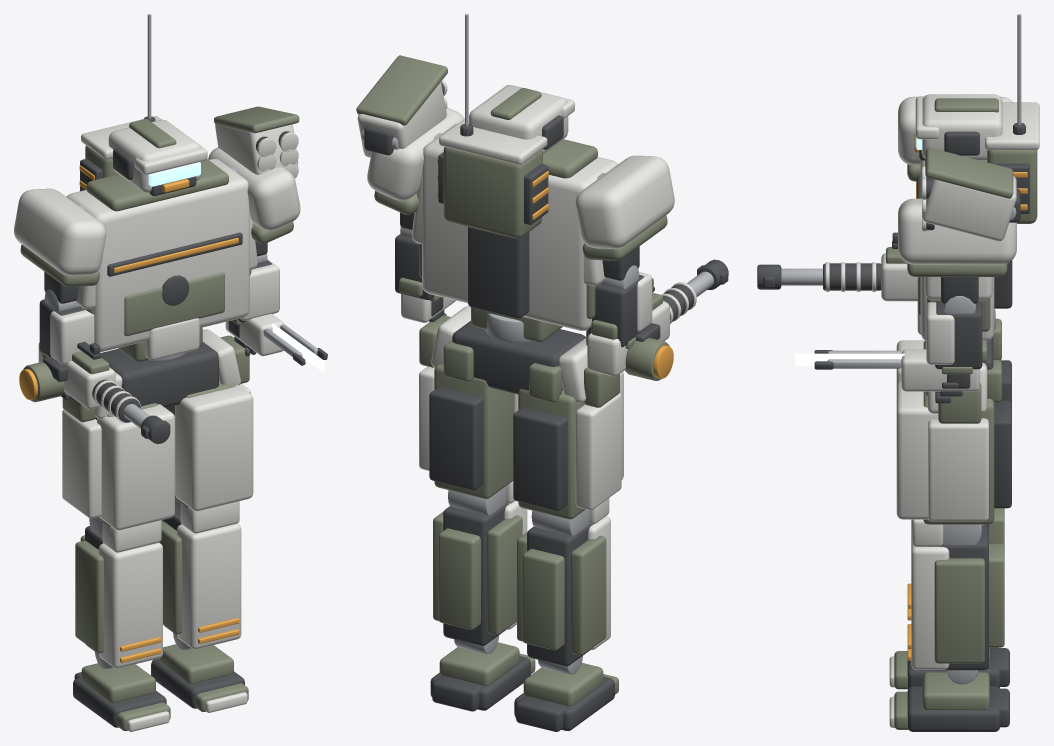
The model's file is ashframe.glb.
3 views of the same model, side by side, from view 1: azimuth 30°, elevation 25°; view 2: azimuth 150°, elevation 25°; view 3: azimuth 270°, elevation 25° (orthographic). The views are drawn at different scales.
Visible parts, largest first — view 1: ASH_torso_white, ASH_leg_r_white, ASH_leg_l_white, ASH_torso_olive, ASH_arm_r_white, ASH_torso_dark, ASH_leg_r_olive, ASH_leg_l_olive, ASH_arm_l_white, ASH_head_white, ASH_gun_r_dark, ASH_leg_r_dark (+17 smaller); view 2: ASH_torso_white, ASH_leg_l_olive, ASH_torso_olive, ASH_leg_r_olive, ASH_torso_dark, ASH_leg_r_dark, ASH_leg_l_dark, ASH_arm_r_white, ASH_leg_r_white, ASH_arm_l_white, ASH_head_white, ASH_arm_r_dark (+12 smaller); view 3: ASH_leg_l_white, ASH_leg_l_olive, ASH_torso_white, ASH_leg_l_dark, ASH_arm_l_white, ASH_torso_olive, ASH_arm_l_dark, ASH_head_white, ASH_torso_dark, ASH_gun_r_dark, ASH_gun_r_white, ASH_blade_l_white (+13 smaller).
Part boxes in pixels (x1,y1,x2,y2): ASH_torso_white: (66, 116, 298, 419); ASH_leg_r_white: (62, 404, 174, 731); ASH_leg_l_white: (175, 383, 253, 712); ASH_torso_olive: (85, 106, 299, 362); ASH_arm_r_white: (14, 188, 106, 364); ASH_torso_dark: (80, 116, 289, 407); ASH_leg_r_olive: (62, 397, 170, 730); ASH_leg_l_olive: (159, 335, 249, 711); ASH_arm_l_white: (208, 147, 300, 320); ASH_head_white: (108, 119, 207, 192); ASH_gun_r_dark: (43, 341, 170, 443); ASH_leg_r_dark: (73, 526, 166, 727); ASH_torso_white: (357, 79, 618, 403); ASH_leg_l_olive: (419, 315, 535, 685); ASH_torso_olive: (356, 55, 597, 402); ASH_leg_r_olive: (517, 367, 619, 706); ASH_torso_dark: (364, 82, 585, 394); ASH_leg_r_dark: (513, 407, 614, 731); ASH_leg_l_dark: (429, 387, 530, 711); ASH_arm_r_white: (575, 155, 674, 331); ASH_leg_r_white: (575, 371, 623, 649); ASH_arm_l_white: (367, 107, 464, 200); ASH_head_white: (469, 85, 574, 153); ASH_arm_r_dark: (588, 246, 645, 347); ASH_leg_l_white: (889, 381, 988, 727); ASH_leg_l_olive: (894, 383, 1004, 729); ASH_torso_white: (917, 102, 1039, 413); ASH_leg_l_dark: (907, 400, 1011, 731); ASH_arm_l_white: (898, 198, 1016, 364); ASH_torso_olive: (918, 147, 1037, 402); ASH_arm_l_dark: (935, 277, 982, 403); ASH_head_white: (915, 94, 1002, 160); ASH_torso_dark: (917, 123, 1029, 395); ASH_gun_r_dark: (757, 232, 897, 290); ASH_gun_r_white: (825, 253, 918, 301); ASH_blade_l_white: (901, 349, 979, 391).
Size of the model in its own units: 2.69 by 6.45 by 2.37.
